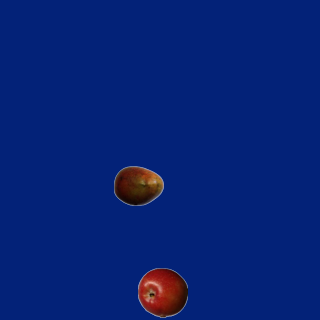Apple Braeburn: (137, 267, 187, 317)
Mango Red: (113, 160, 163, 210)
